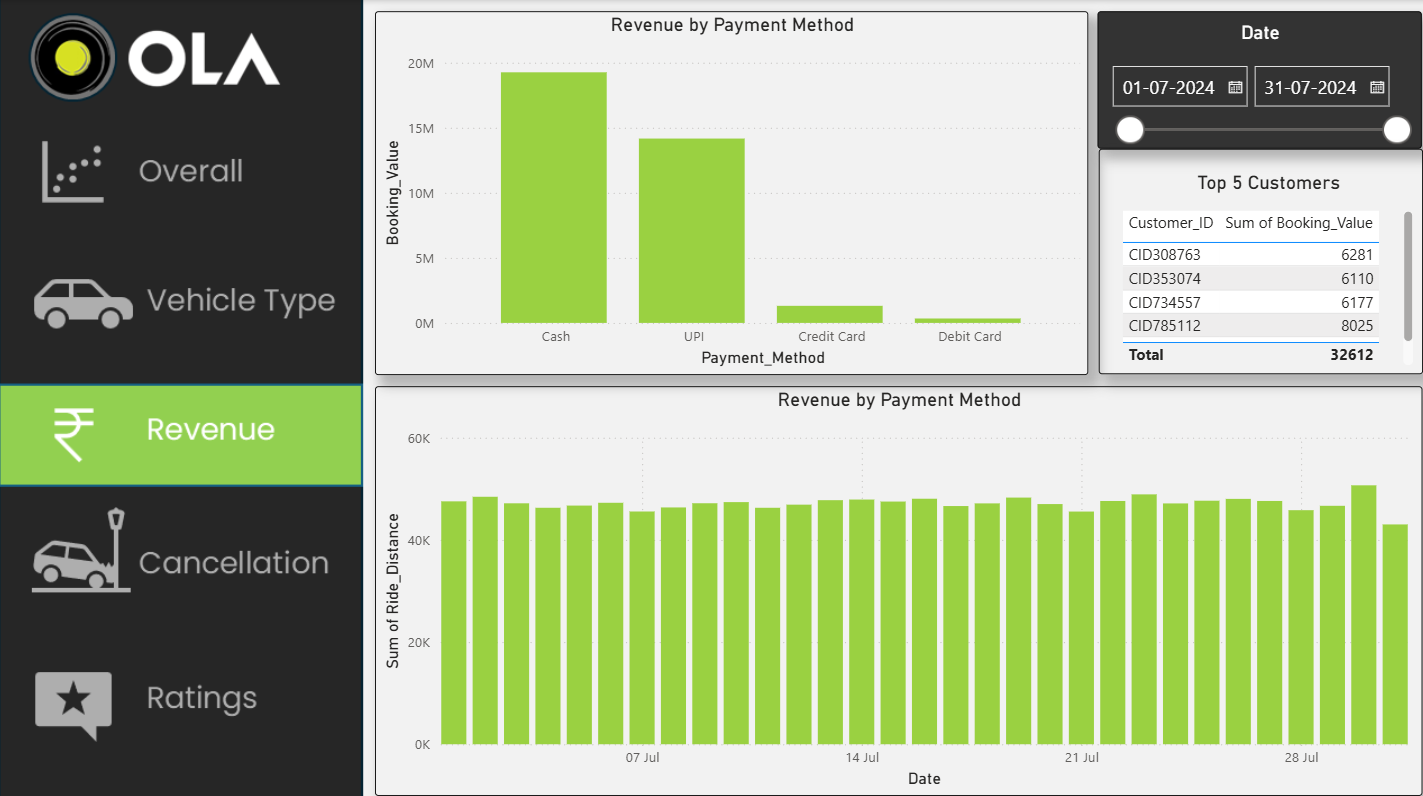

Layout of this report page (visuals, bound fields, positions):
{"tool":"powerbi","page":{"name":"Revenue","canvas":[1280,720],"ordinal":2},"visuals":[{"type":"actionButton","box":[0,111.1,323.3,92.2],"z":0},{"type":"actionButton","box":[0,224.4,323.3,92.2],"z":1000},{"type":"actionButton","box":[1.1,448.9,323.3,92.2],"z":2000},{"type":"actionButton","box":[0,576.7,323.3,92.2],"z":3000},{"type":"columnChart","title":"Revenue by Payment Method","fields":{"Y":["Sum(July.Booking_Value)"],"Category":["July.Payment_Method"]},"box":[333.8,10,635,323.8],"z":3001},{"type":"columnChart","title":"Revenue by Payment Method","fields":{"Y":["Sum(July.Ride_Distance)"],"Category":["July.Date"]},"box":[333.8,343.8,932.5,365],"z":3002},{"type":"slicer","title":"Date","fields":{"Values":["July.Date"]},"box":[977.5,10,288.8,122.5],"z":3003},{"type":"tableEx","title":"Top 5 Customers","fields":{"Values":["July.Customer_ID","Sum(July.Booking_Value)"]},"box":[978,133,289,201],"z":3004}]}

Visuals, with their boxes in screenshot pixels (x1, y1, x2, y2), scaled from the page's 1280x720 canvas onto the 1423x796 screenshot:
actionButton: bbox=(0, 123, 359, 225)
actionButton: bbox=(0, 248, 359, 350)
actionButton: bbox=(1, 496, 361, 598)
actionButton: bbox=(0, 638, 359, 740)
"Revenue by Payment Method" columnChart: bbox=(371, 11, 1077, 369)
"Revenue by Payment Method" columnChart: bbox=(371, 380, 1408, 784)
"Date" slicer: bbox=(1087, 11, 1408, 146)
"Top 5 Customers" tableEx: bbox=(1087, 147, 1409, 369)
